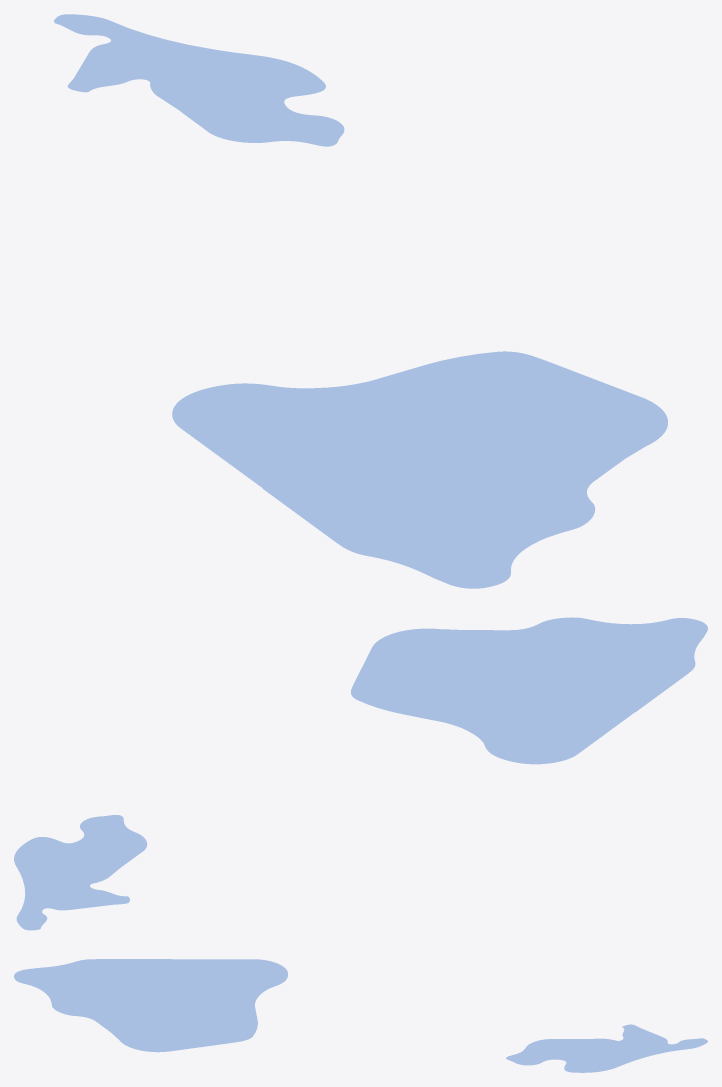
File: Grass.gltf
3 renders of one model, top to bottom at view 1: azimuth 30°, elevation 25°; view 2: azimuth 150°, elevation 25°; view 3: azimuth 270°, elevation 25°, orthographic. The views are drawn at different scales.
Parts seen in each view (by area): view 1: Grass-Mat.5; view 2: Grass-Mat.5; view 3: Grass-Mat.5.
Boxes of the visible parts, left/top/right/bottom form: Grass-Mat.5: left=54, top=14, right=667, bottom=588; Grass-Mat.5: left=14, top=617, right=707, bottom=930; Grass-Mat.5: left=14, top=959, right=707, bottom=1072.
Size of what is drawn, in the model's own units: 9.62 by 0.0176 by 24.9.
